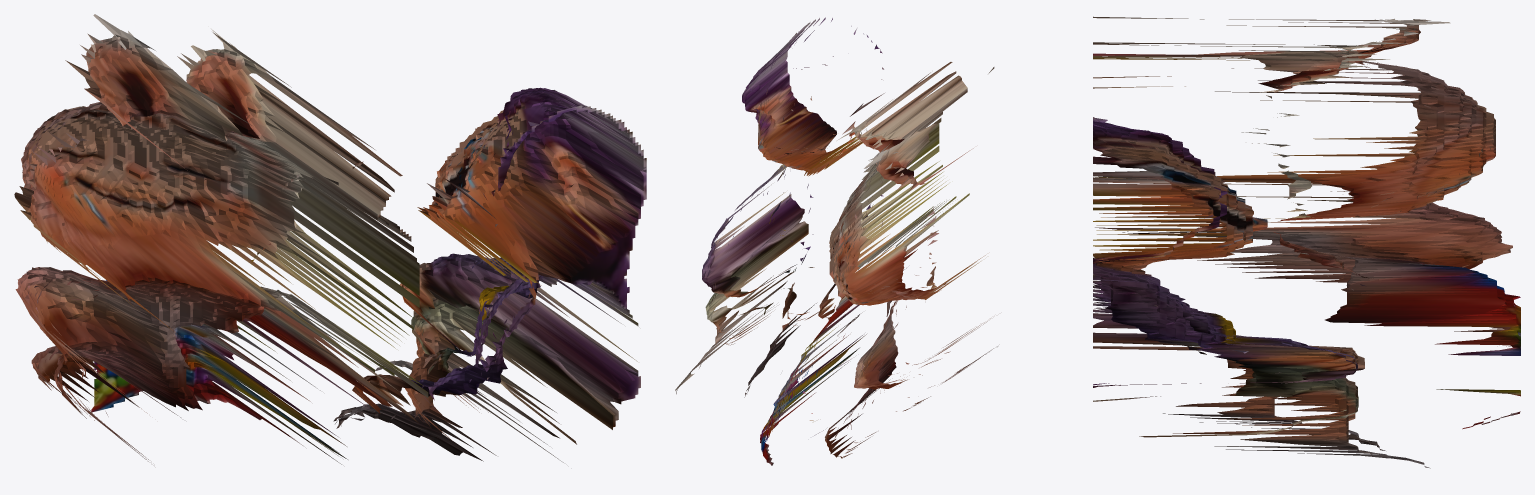
The model's file is frame_00418.glb.
3 views of the same model, side by side, from view 1: azimuth 30°, elevation 25°; view 2: azimuth 150°, elevation 25°; view 3: azimuth 270°, elevation 25° (orthographic). The views are drawn at different scales.
Parts seen in each view (by area): view 1: geometry_0; view 2: geometry_0; view 3: geometry_0.
Boxes of the visible parts, x1,y1,x2,y2 form: geometry_0: (14,14,646,464); geometry_0: (675,17,997,465); geometry_0: (1093,16,1520,468).
Size of the model in its own units: 0.1486 by 0.1495 by 0.16.
1 material, 1 textured.
